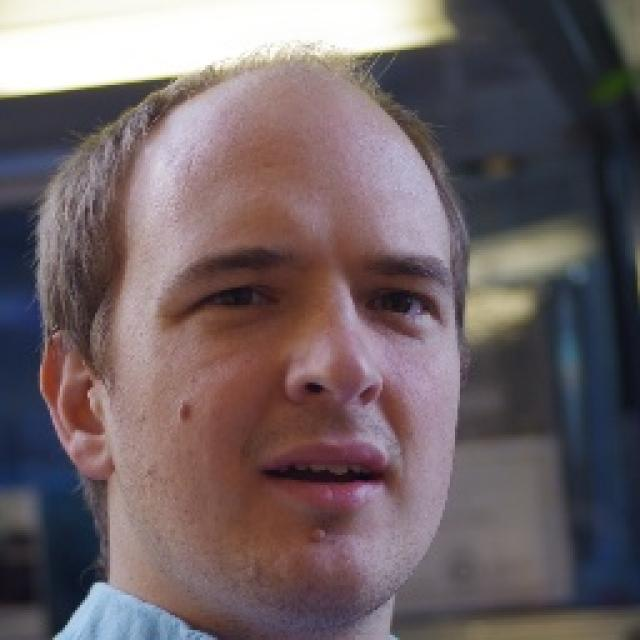earlobe: (38, 330, 114, 483)
